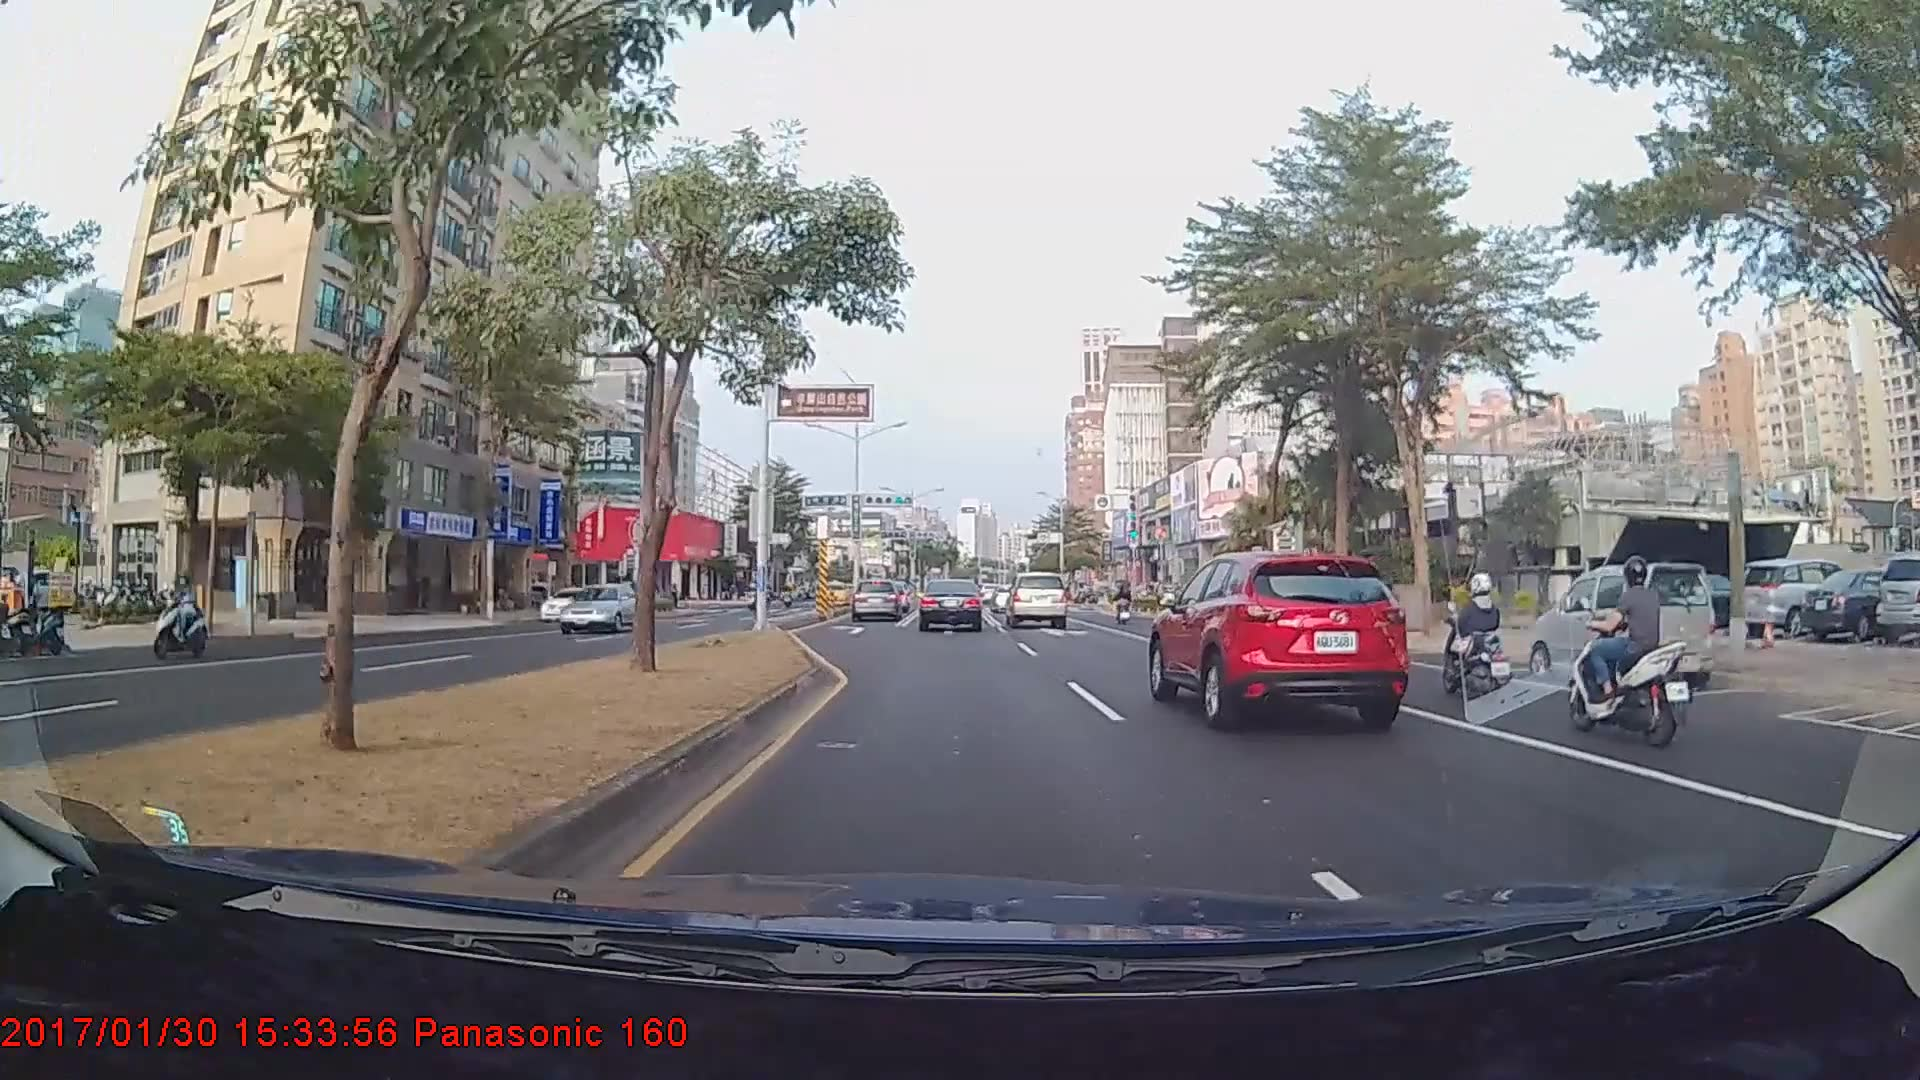rider: (1555, 554, 1691, 743), (1431, 572, 1528, 714), (148, 569, 213, 664), (1114, 586, 1138, 629)
vehicle: (1150, 544, 1412, 725), (1529, 562, 1715, 695), (1733, 559, 1865, 638), (555, 581, 642, 634), (1003, 571, 1069, 628), (919, 579, 984, 632), (849, 577, 916, 623), (540, 585, 607, 621)
